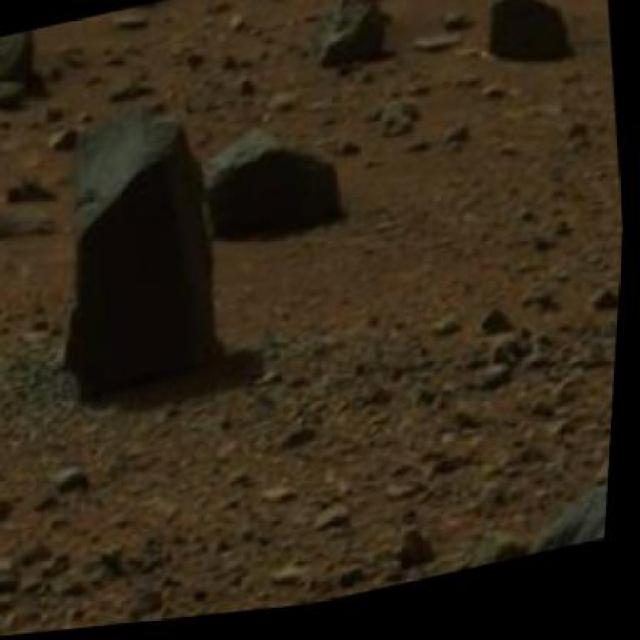rock: (27, 90, 244, 422), (389, 474, 614, 594), (198, 121, 357, 265), (478, 0, 585, 94), (305, 0, 397, 86), (0, 26, 57, 129), (235, 0, 318, 9), (589, 0, 608, 2)
